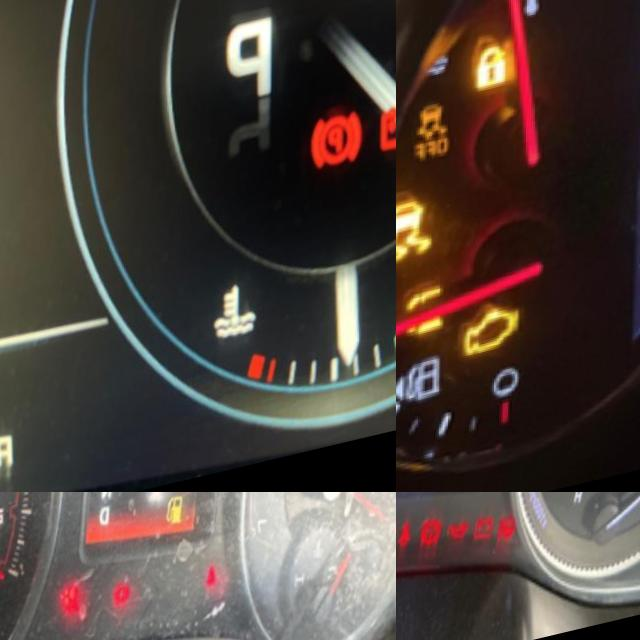Low fuel level: (164, 506, 187, 548)
